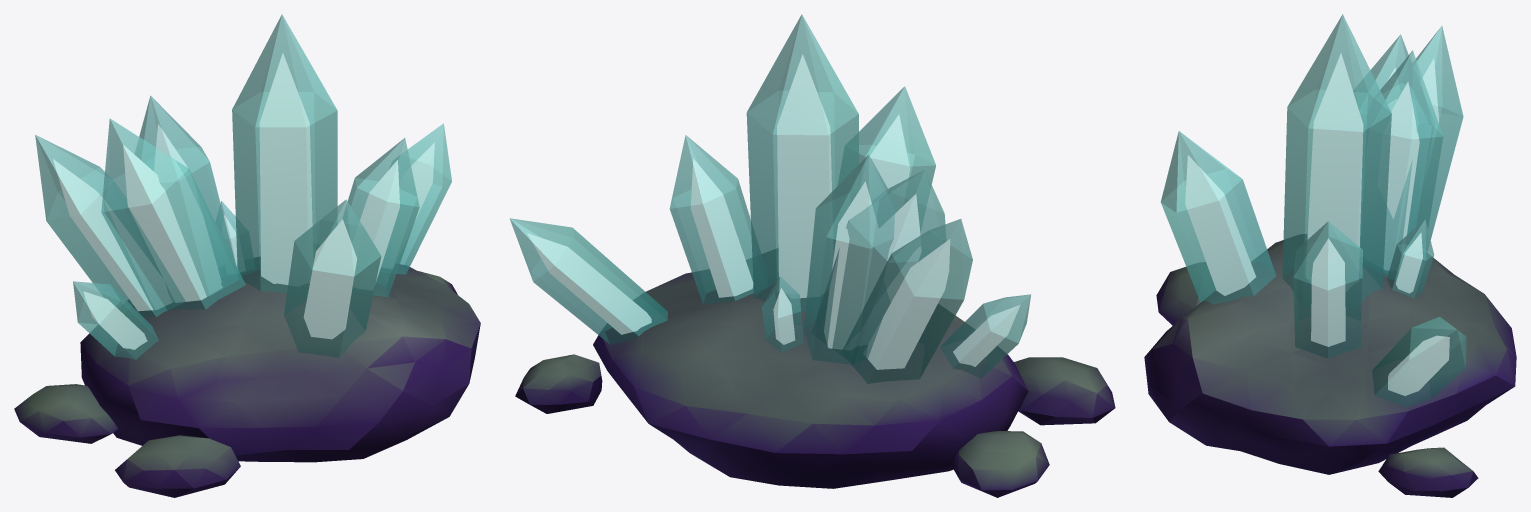
Rendered from hollow_crystal_cluster_a.glb.
3 renders of one model, left to right at view 1: azimuth 30°, elevation 25°; view 2: azimuth 150°, elevation 25°; view 3: azimuth 270°, elevation 25°, orthographic. The views are drawn at different scales.
Visible parts, largest first — view 1: hollow_crystal_cluster_a; view 2: hollow_crystal_cluster_a; view 3: hollow_crystal_cluster_a.
Boxes of the visible parts, x1,y1,x2,y2 form: hollow_crystal_cluster_a: (14,14,480,497); hollow_crystal_cluster_a: (509,14,1115,497); hollow_crystal_cluster_a: (1144,14,1516,497).
Bounding box in the file's own units: 2.14 × 1.69 × 1.47.
